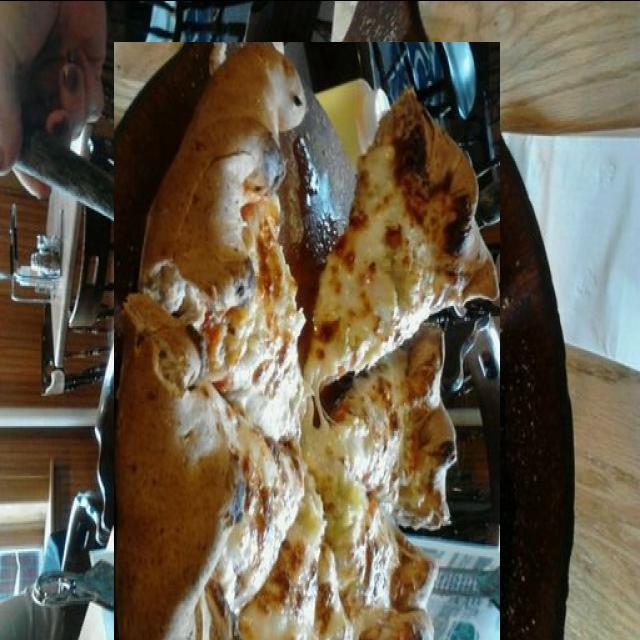pizza: (114, 41, 500, 640)
